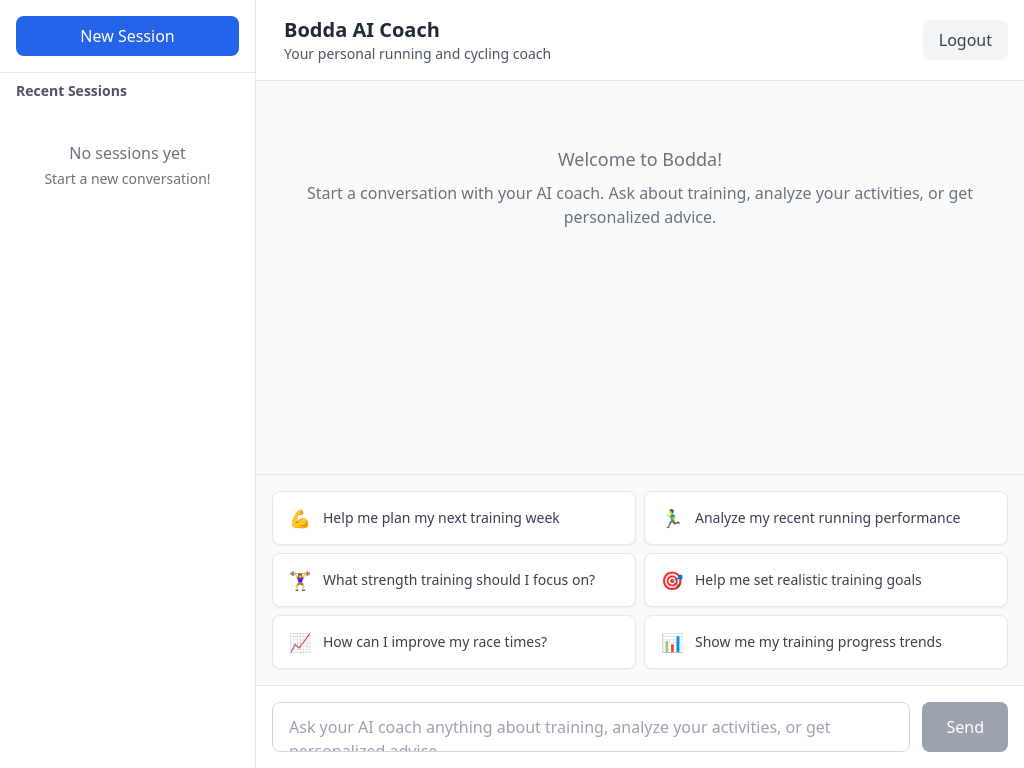
Scenario: ChatInterface - Suggestion Pills Integration › Pills Visibility Based on Session State and Input State › hides suggestion pills when input has text - Requirements 1.2
Check: the text "Help me plan my next training week" is shown, box [323,508,560,527]
Step 1. Replace the text in the text box with placeholder "Ask your AI coach" with "Hello" → (591, 727), box [272,702,910,752]
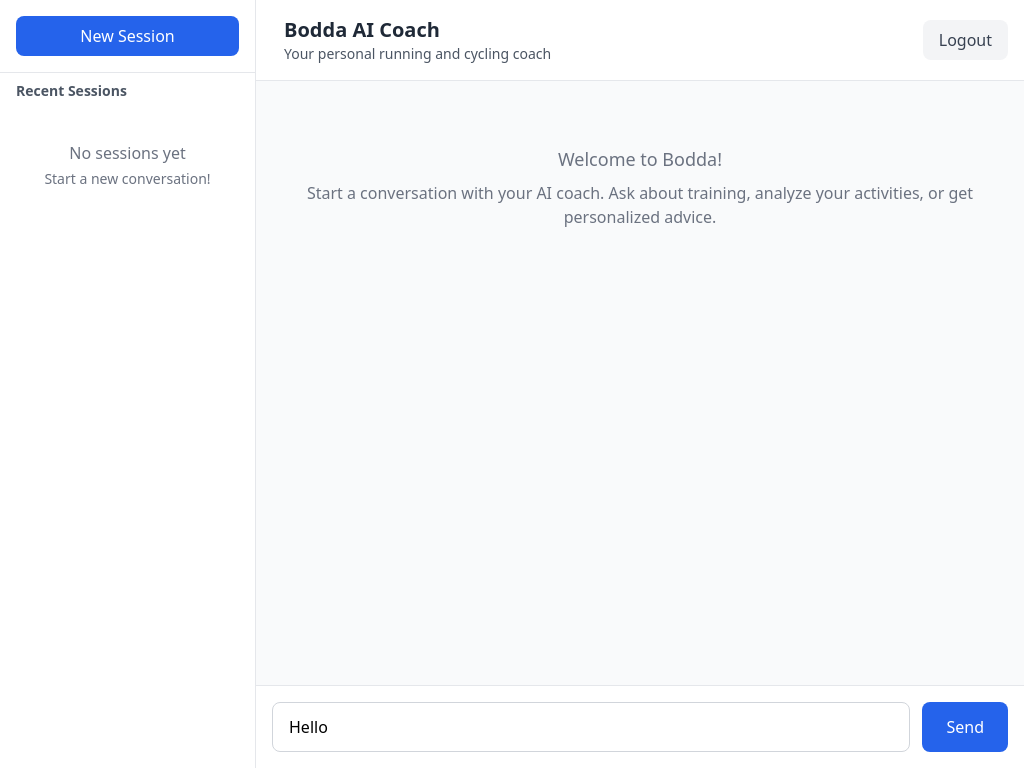
Check: the button "Help me plan my next training week" is gone
